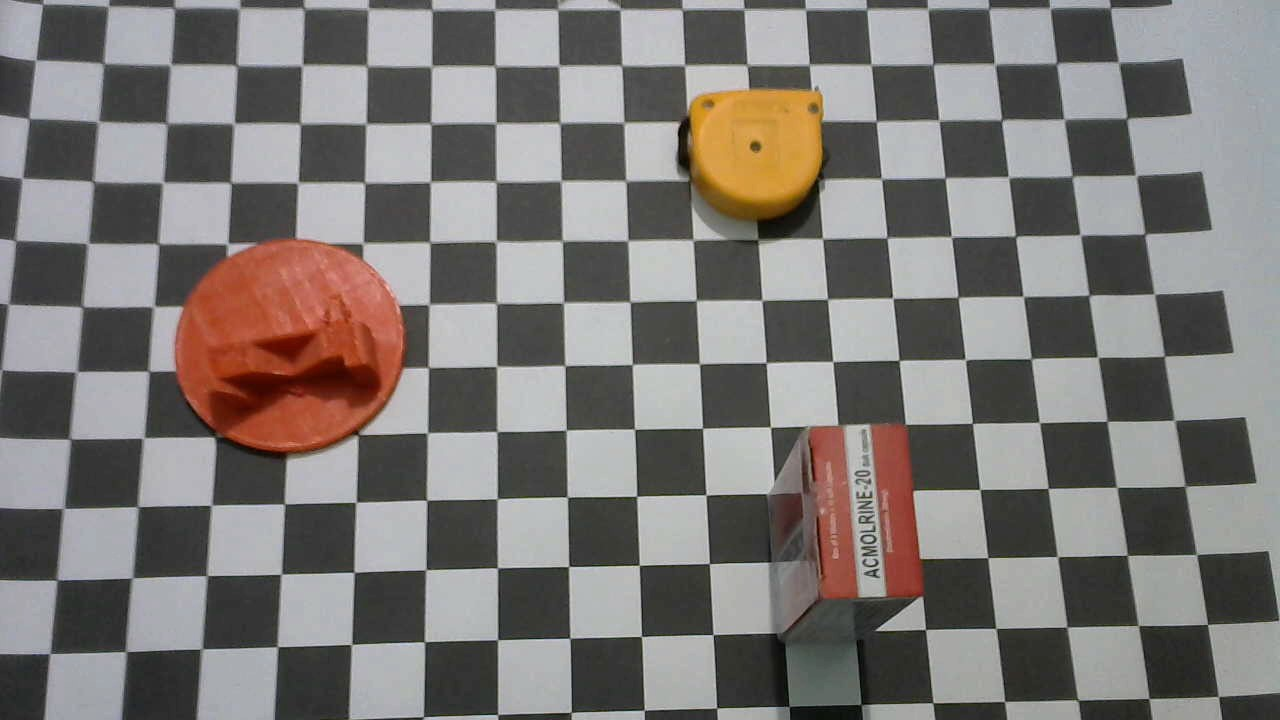blue: (676, 86, 829, 218)
green: (173, 239, 405, 453)
red: (766, 423, 925, 639)
